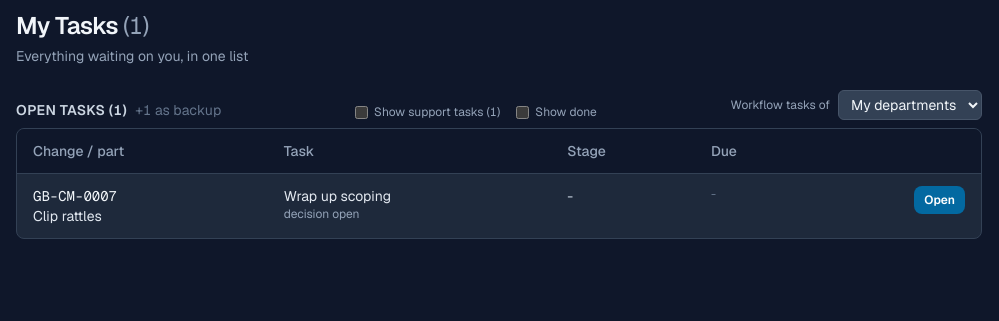
MyTasksPage project team (spec §18) › counts main rows only, lists backup rows muted with the main name
Expected: the text "GB-CM-0008" is not shown
Click the checkbox with test id "task-show-support" at (362, 112), box 355,106 -> 368,118
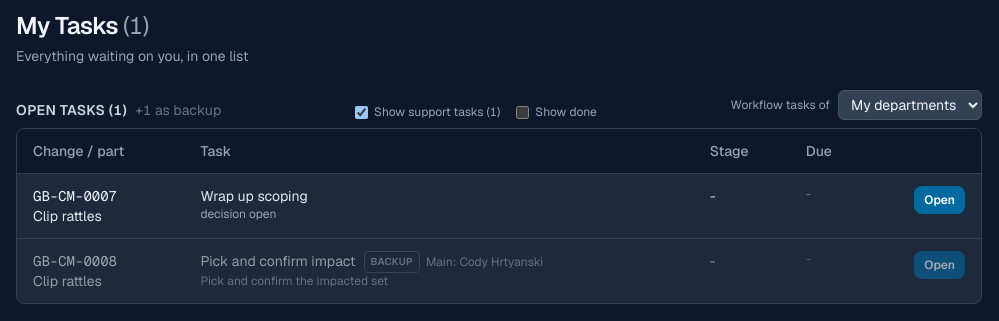
Expected: the heading with test id "task-list-title" shows "(1)", 16,100 -> 221,120
Result: the text "GB-CM-0008" is shown at 33,252 -> 117,270
Result: the element with test id "backup-chip" shows "Cody Hrtyanski" at 426,254 -> 543,270
